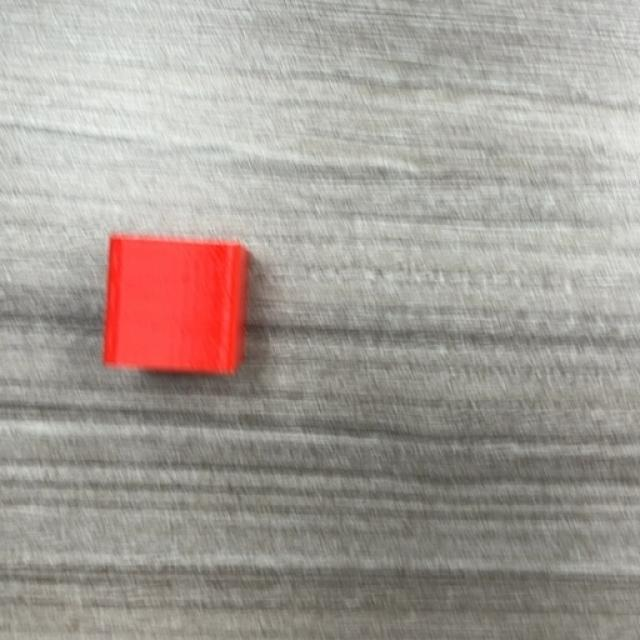Rojo: (104, 234, 251, 379)
